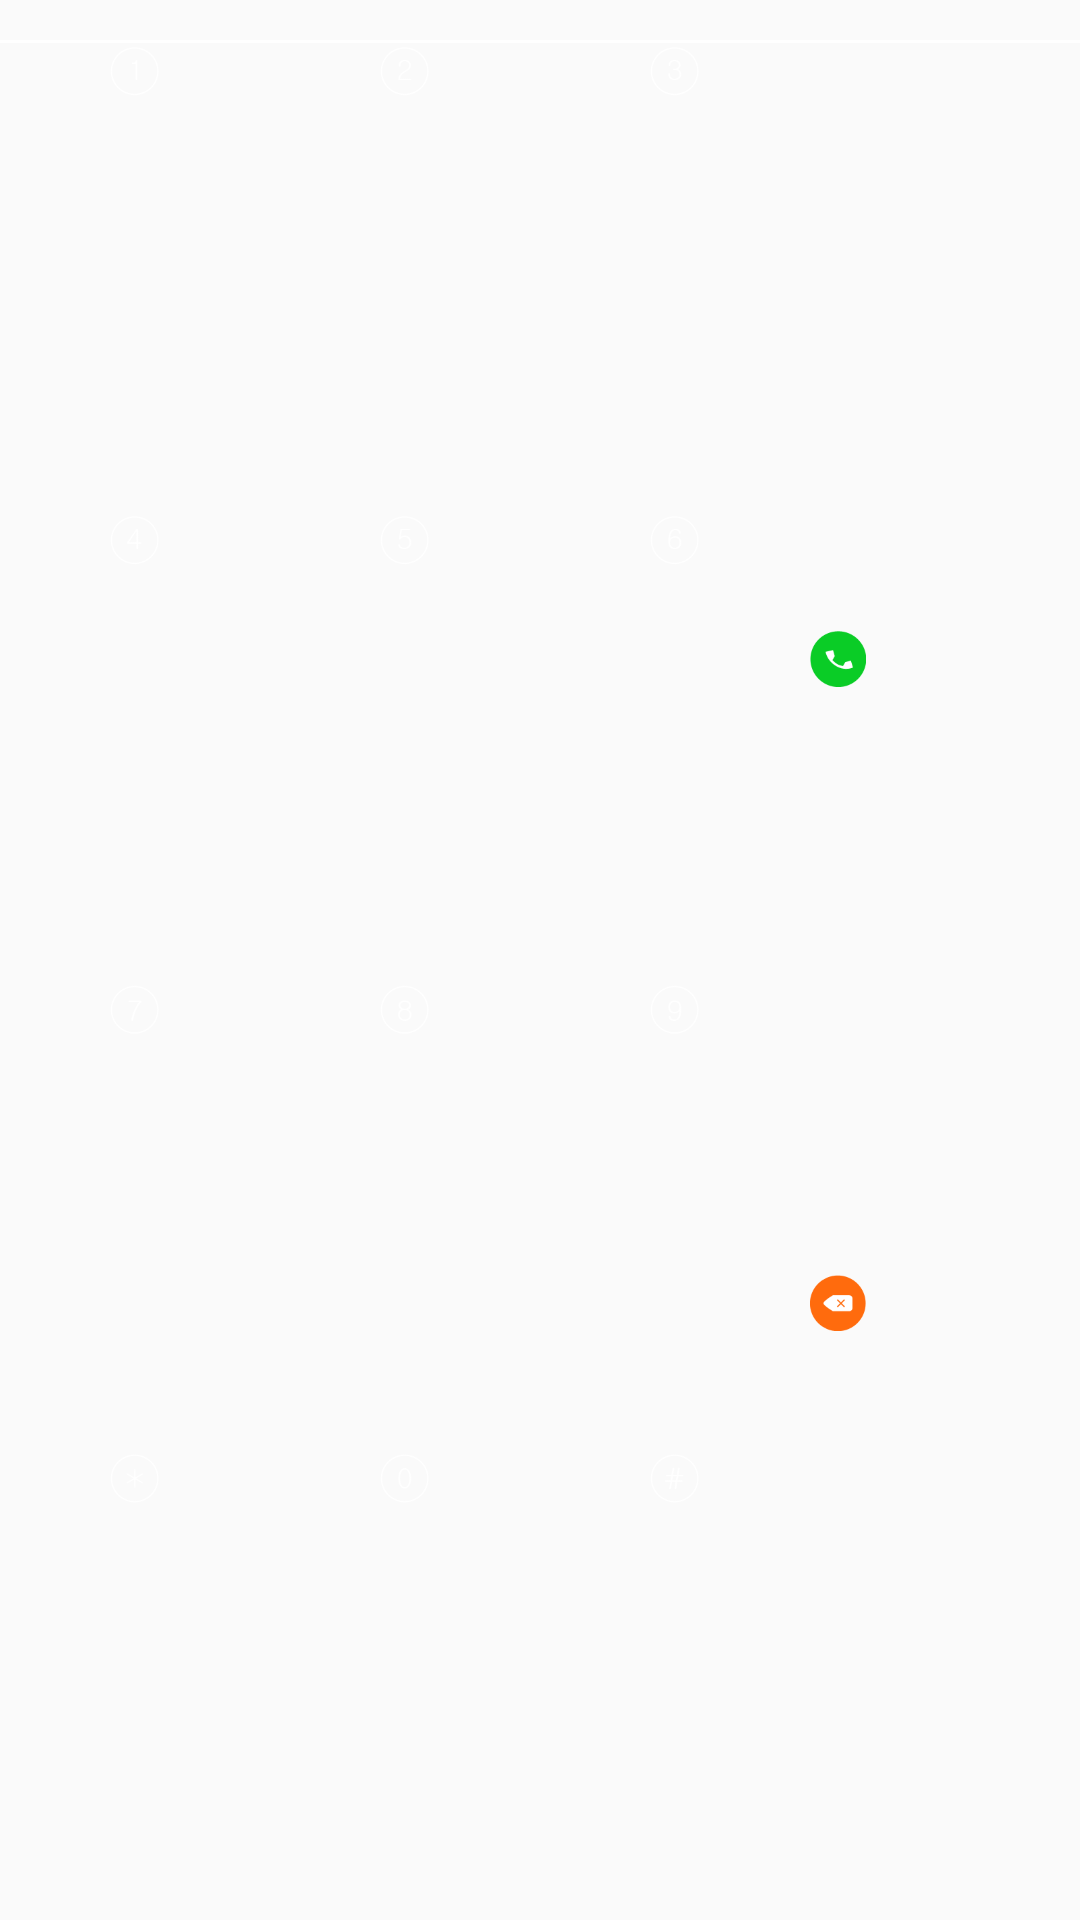

Icon click points for this 1080 × 1920 phone screenshot, format (x,y):
jianpan bohao: (838,659)
jianpan qingchu: (838,1303)
